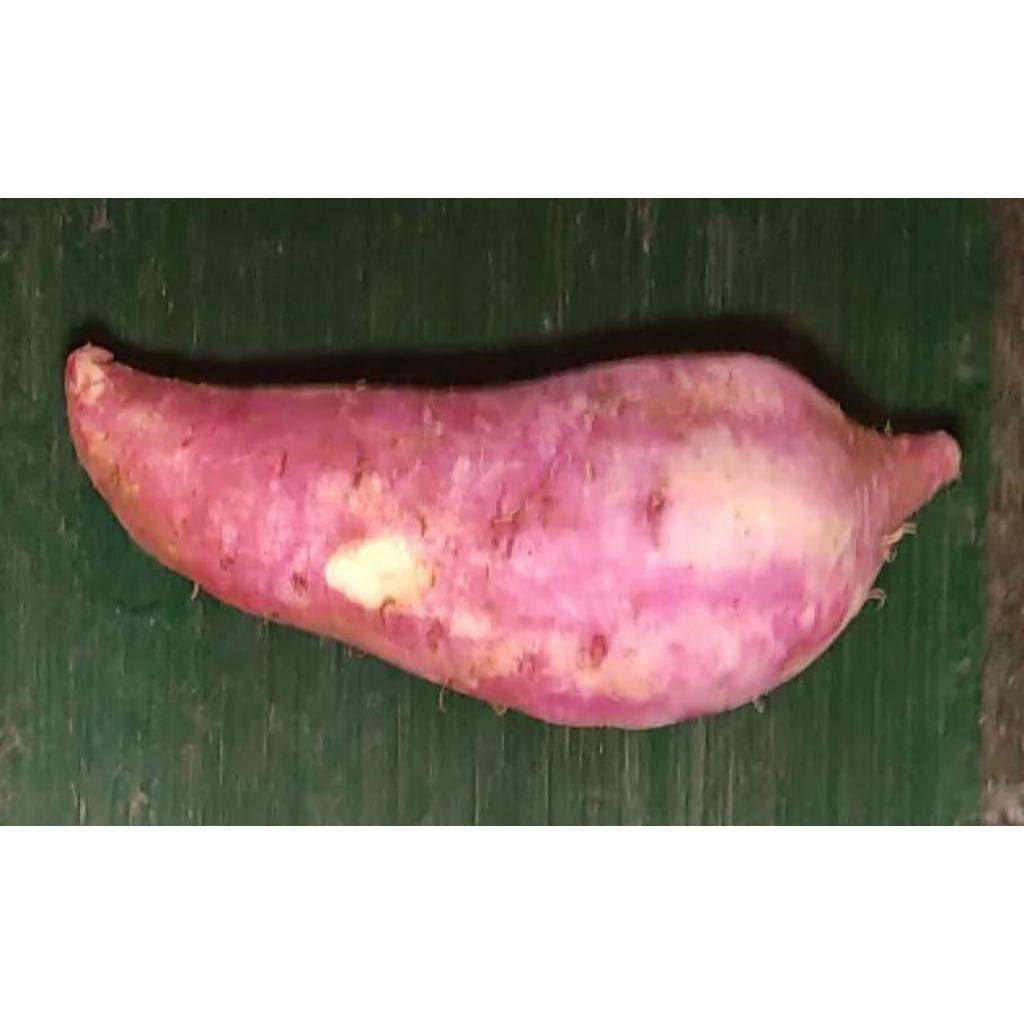Sweet Potato: (62, 343, 965, 732)
